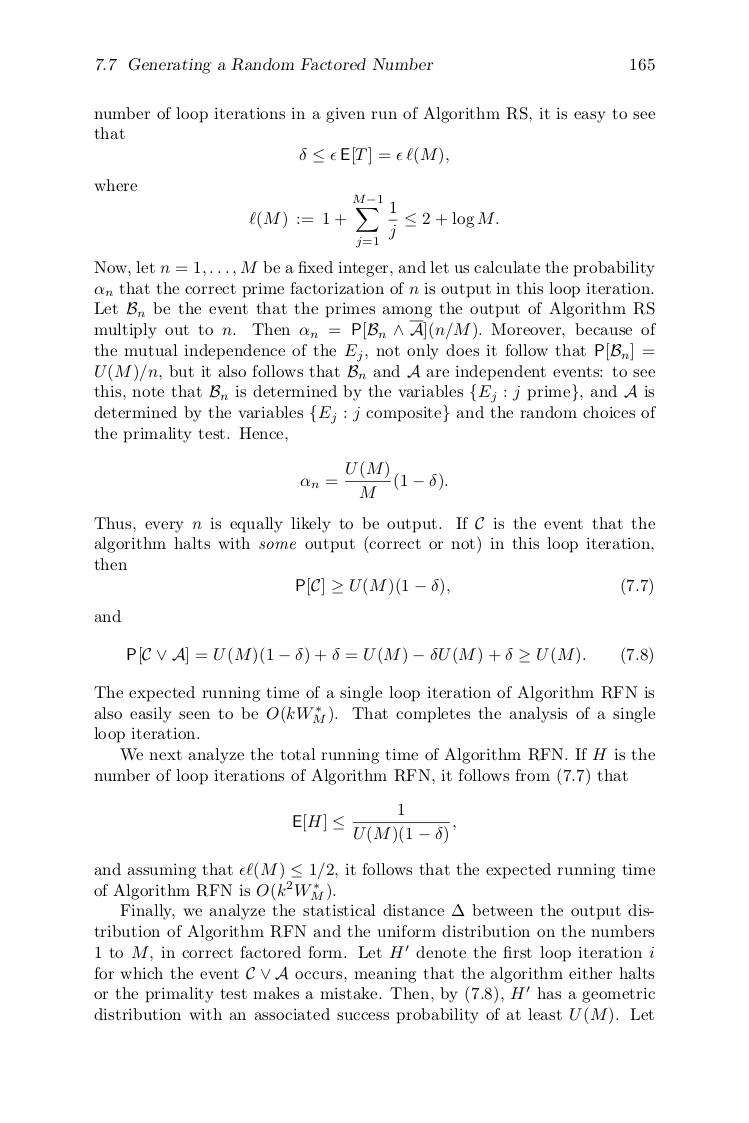formula: (249, 193, 498, 248), (127, 645, 652, 665), (293, 802, 455, 844), (296, 577, 652, 596), (300, 460, 447, 498), (299, 145, 448, 165)
